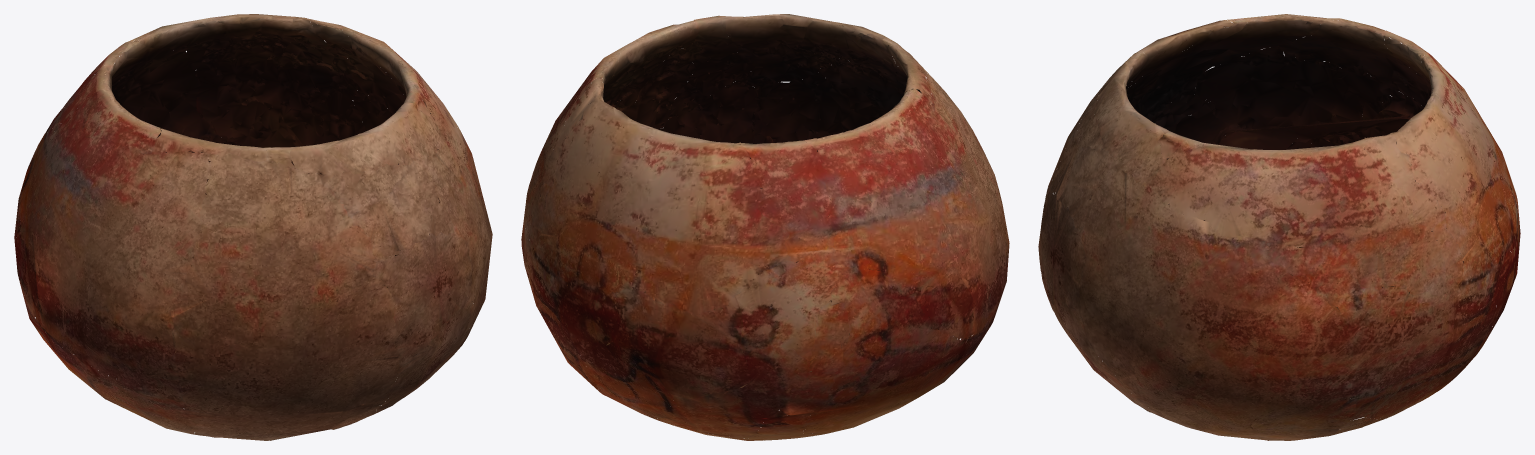
3 views of the same model, side by side, from view 1: azimuth 30°, elevation 25°; view 2: azimuth 150°, elevation 25°; view 3: azimuth 270°, elevation 25° (orthographic). The views are drawn at different scales.
Parts seen in each view (by area): view 1: Mesh_0; view 2: Mesh_0; view 3: Mesh_0.
Boxes of the visible parts, x1,y1,x2,y2 form: Mesh_0: [14, 14, 492, 440]; Mesh_0: [521, 14, 1009, 440]; Mesh_0: [1038, 14, 1520, 440].
Size of the model in its own units: 0.2254 by 0.163 by 0.2242.
1 material, 1 textured.
